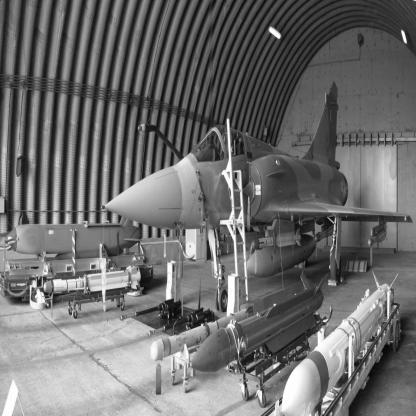Mirage2000: (102, 80, 414, 312)
